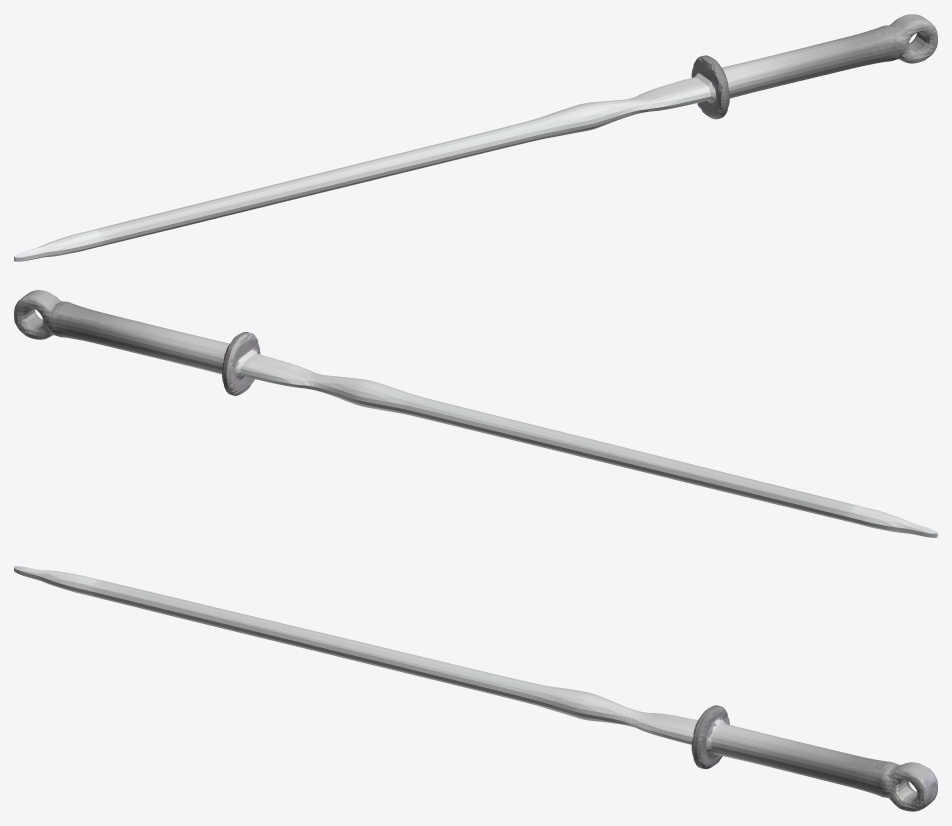
File: mira_blade.glb
The picture shows the model from 3 angles, top to bottom: view 1: azimuth 30°, elevation 25°; view 2: azimuth 150°, elevation 25°; view 3: azimuth 330°, elevation 25°; orthographic projection.
Parts seen in each view (by area): view 1: tmpgeq6cs7x.ply; view 2: tmpgeq6cs7x.ply; view 3: tmpgeq6cs7x.ply.
Part boxes in pixels (box(x1,y1,x2,y2)): tmpgeq6cs7x.ply: box(14, 14, 937, 261); tmpgeq6cs7x.ply: box(14, 290, 937, 537); tmpgeq6cs7x.ply: box(14, 566, 937, 811).
Bounding box in the file's own units: 1.99 × 0.1192 × 0.1201.
Materials: 1 (1 with a texture image).
